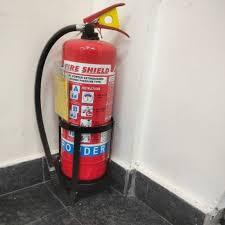floor-kept: (29, 2, 139, 206)
